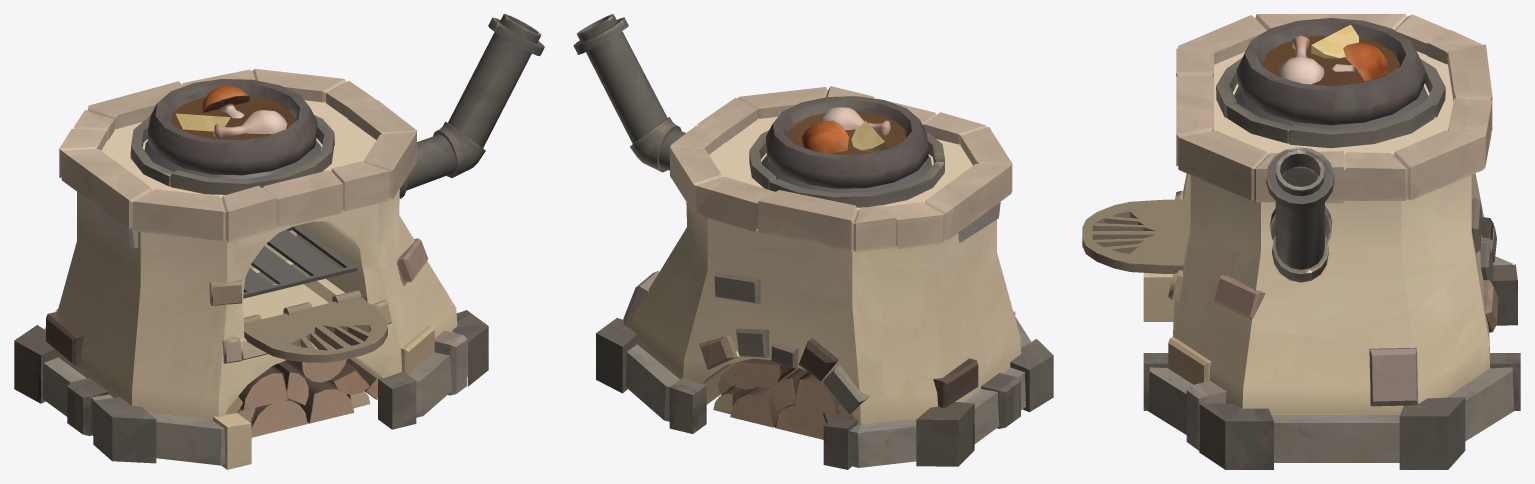
Rendered from clay_cooking_stove.glb.
3 views of the same model, side by side, from view 1: azimuth 30°, elevation 25°; view 2: azimuth 150°, elevation 25°; view 3: azimuth 270°, elevation 25° (orthographic). The views are drawn at different scales.
Parts seen in each view (by area): view 1: StevenStove_LOD0; view 2: StevenStove_LOD0; view 3: StevenStove_LOD0.
Boxes of the visible parts, x1,y1,x2,y2 form: StevenStove_LOD0: (14,14,544,469); StevenStove_LOD0: (573,14,1053,469); StevenStove_LOD0: (1082,14,1520,469).
Size of the model in its own units: 0.7201 by 0.4708 by 0.5359.
1 material, 1 textured.
